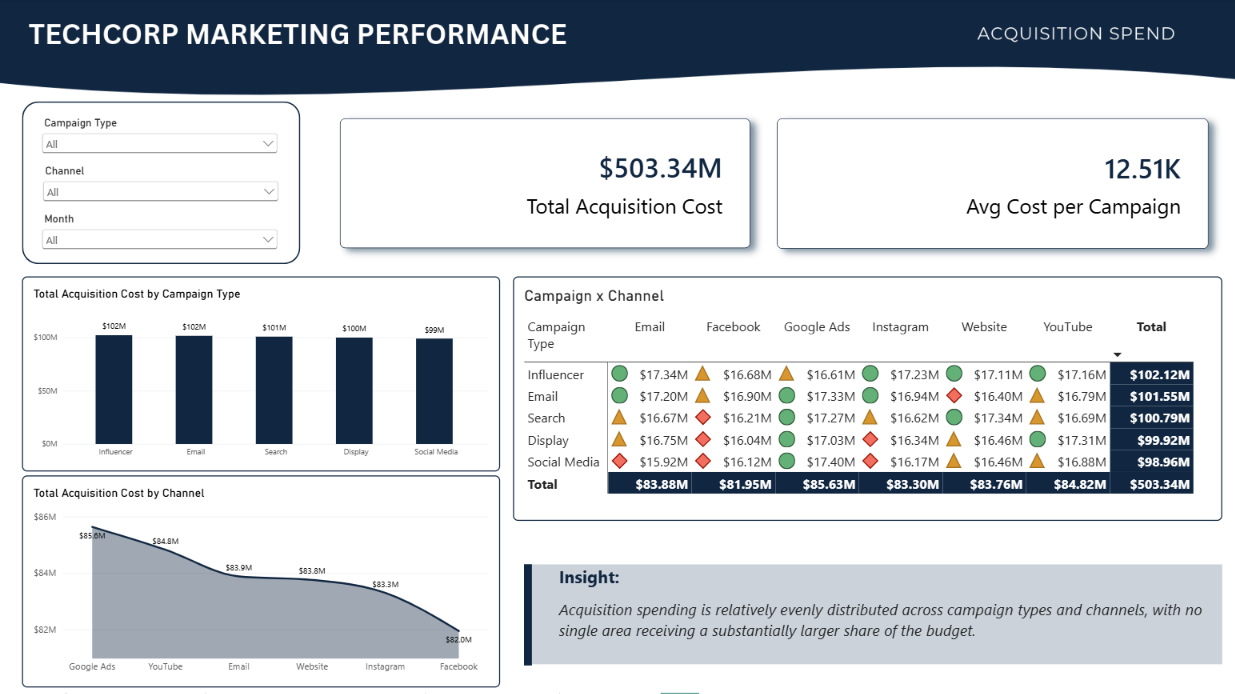

The page's visual inventory and layout, read from the dashboard file:
{"tool":"powerbi","page":{"name":"Acquisition Spend","canvas":[1920,1080],"ordinal":0},"visuals":[{"type":"textbox","box":[34,42.5,760.5,64.7],"z":0},{"type":"image","box":[0,0,1919.7,1080.3],"z":1000},{"type":"shape","box":[34.9,160.5,432.6,252.9],"z":1500,"group":"g1"},{"type":"group","id":"g1","title":"Group 1","box":[34.9,160.5,432.6,252.9],"z":2000},{"type":"cardVisual","fields":{"Data":["Sum(marketing_campaign techcorp_marketing_campaign.Acquisition_Cost)"]},"box":[507.6,165.7,678.5,242.4],"z":3000},{"type":"cardVisual","fields":{"Data":["marketing_campaign techcorp_marketing_campaign.Avg Cost per Campaign"]},"box":[1186.9,165.7,711.4,243.2],"z":4000},{"type":"slicer","fields":{"Values":["marketing_campaign techcorp_marketing_campaign.Campaign_Type"]},"box":[61.8,183.2,375,60.3],"z":4500,"group":"g1"},{"type":"slicer","fields":{"Values":["marketing_campaign techcorp_marketing_campaign.Channel_Used"]},"box":[63.5,258.2,375,60.3],"z":5000,"group":"g1"},{"type":"columnChart","title":"Total Acquisition Cost by Campaign Type","fields":{"Category":["marketing_campaign techcorp_marketing_campaign.Campaign_Type"],"Y":["Sum(marketing_campaign techcorp_marketing_campaign.Acquisition_Cost)"]},"box":[34.9,432.6,743,303.5],"z":5000},{"type":"slicer","fields":{"Values":["marketing_campaign techcorp_marketing_campaign.Month.Variation.Date Hierarchy.Month"]},"box":[61.8,333.2,375,60.3],"z":5500,"group":"g1"},{"type":"areaChart","title":"Total Acquisition Cost by Channel","fields":{"Category":["marketing_campaign techcorp_marketing_campaign.Channel_Used"],"Y":["Sum(marketing_campaign techcorp_marketing_campaign.Acquisition_Cost)"]},"box":[34.9,741.3,743,329.7],"z":6000},{"type":"textbox","box":[827,879.2,1072.5,155.2],"z":7000,"group":"g2"},{"type":"pivotTable","title":"Campaign x Channel","fields":{"Rows":["marketing_campaign techcorp_marketing_campaign.Campaign_Type"],"Columns":["marketing_campaign techcorp_marketing_campaign.Channel_Used"],"Values":["Sum(marketing_campaign techcorp_marketing_campaign.Acquisition_Cost)"]},"box":[797.4,432.1,1102.3,380],"z":8000},{"type":"shape","box":[814.3,879.2,12,156.8],"z":9000,"group":"g2"},{"type":"group","id":"g2","title":"Group 2","box":[814.3,879.2,1085.1,156.8],"z":9001}]}

Visuals, with their boxes in screenshot pixels (x1, y1, x2, y2), scaled from the page's 1920x1080 canvas onto the 1235x694 screenshot:
textbox: (22,27,511,69)
image: (0,0,1234,693)
shape: (22,103,301,266)
"Group 1" group: (22,103,301,266)
cardVisual - Sum(marketing_campaign techcorp_marketing_campaign.Acquisition_Cost): (327,106,763,262)
cardVisual - marketing_campaign techcorp_marketing_campaign.Avg Cost per Campaign: (763,106,1221,263)
slicer - marketing_campaign techcorp_marketing_campaign.Campaign_Type: (40,118,281,156)
slicer - marketing_campaign techcorp_marketing_campaign.Channel_Used: (41,166,282,205)
"Total Acquisition Cost by Campaign Type" columnChart: (22,278,500,473)
slicer - marketing_campaign techcorp_marketing_campaign.Month.Variation.Date Hierarchy.Month: (40,214,281,253)
"Total Acquisition Cost by Channel" areaChart: (22,476,500,688)
textbox: (532,565,1222,665)
"Campaign x Channel" pivotTable: (513,278,1222,522)
shape: (524,565,532,666)
"Group 2" group: (524,565,1222,666)
